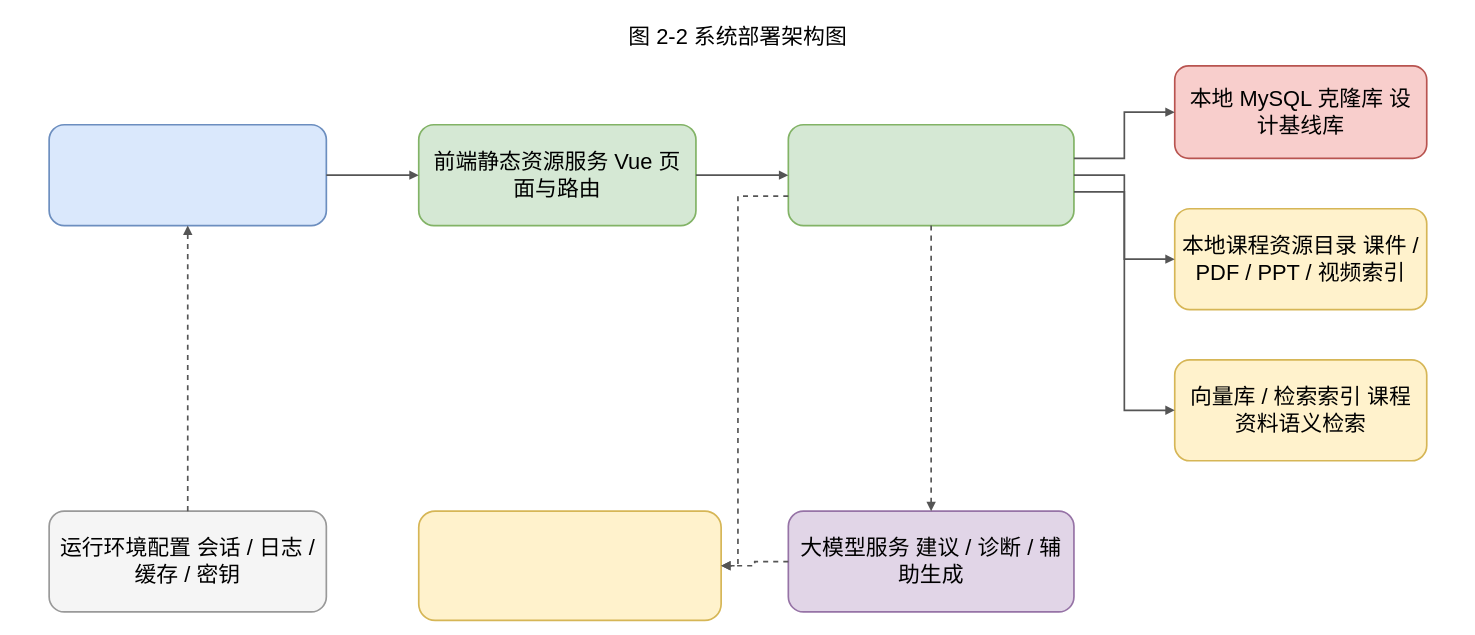
The diagram is 1475 pixels wide and 635 high, and some of its shapes have lost their labels. The shapes that lost their labels are listed below. From the top down, each one's centre as x and y in pixels, then its label:
(187,174): 浏览器 / WPS 内嵌页面 学生端 / 教师端 / 管理员端
(930,174): 后端应用服务 FastAPI + 业务模块
(569,565): 外部资源与行业来源 B站 / YouTube / CSDN / 招聘文本
